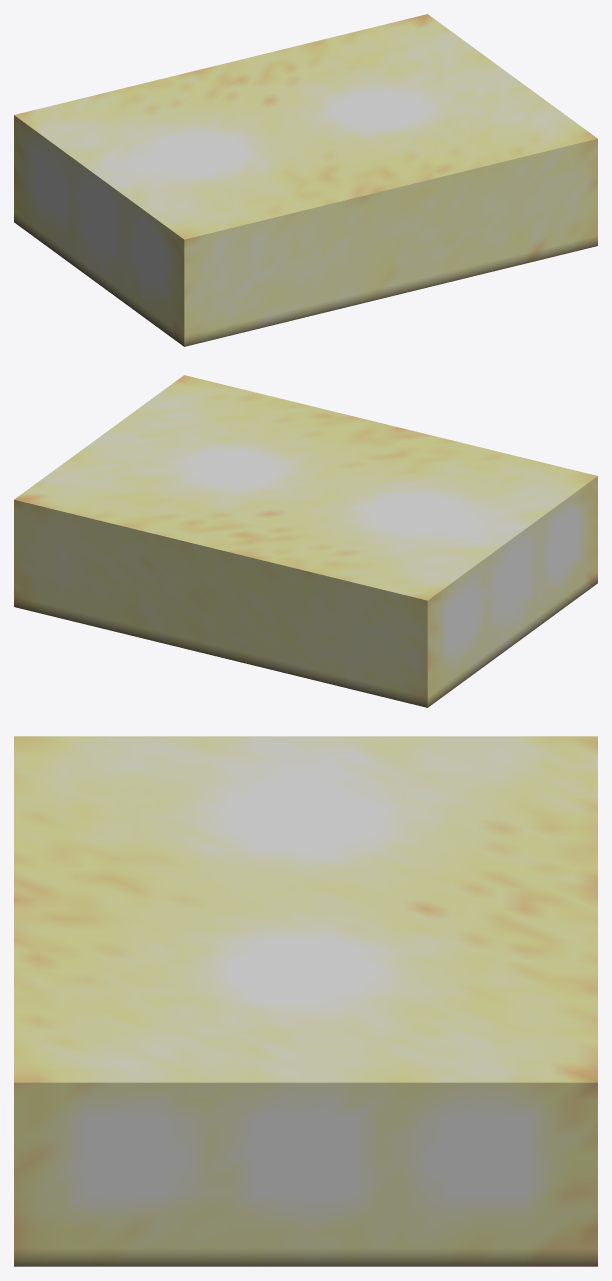
Rendered from nabawi_interior.glb.
The picture shows the model from 3 angles, top to bottom: view 1: azimuth 30°, elevation 25°; view 2: azimuth 150°, elevation 25°; view 3: azimuth 270°, elevation 25°; orthographic projection. The views are drawn at different scales.
Visible parts, largest first — view 1: hall; view 2: hall; view 3: hall.
Boxes of the visible parts, bbox=[...] form: hall: bbox=[14, 14, 597, 346]; hall: bbox=[14, 375, 597, 707]; hall: bbox=[14, 736, 597, 1266].
Size of the model in its own units: 23 by 5.7 by 16.4.
